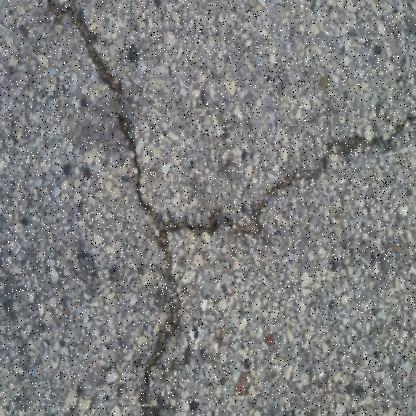Cracks: (45, 0, 185, 416), (157, 105, 415, 254)
